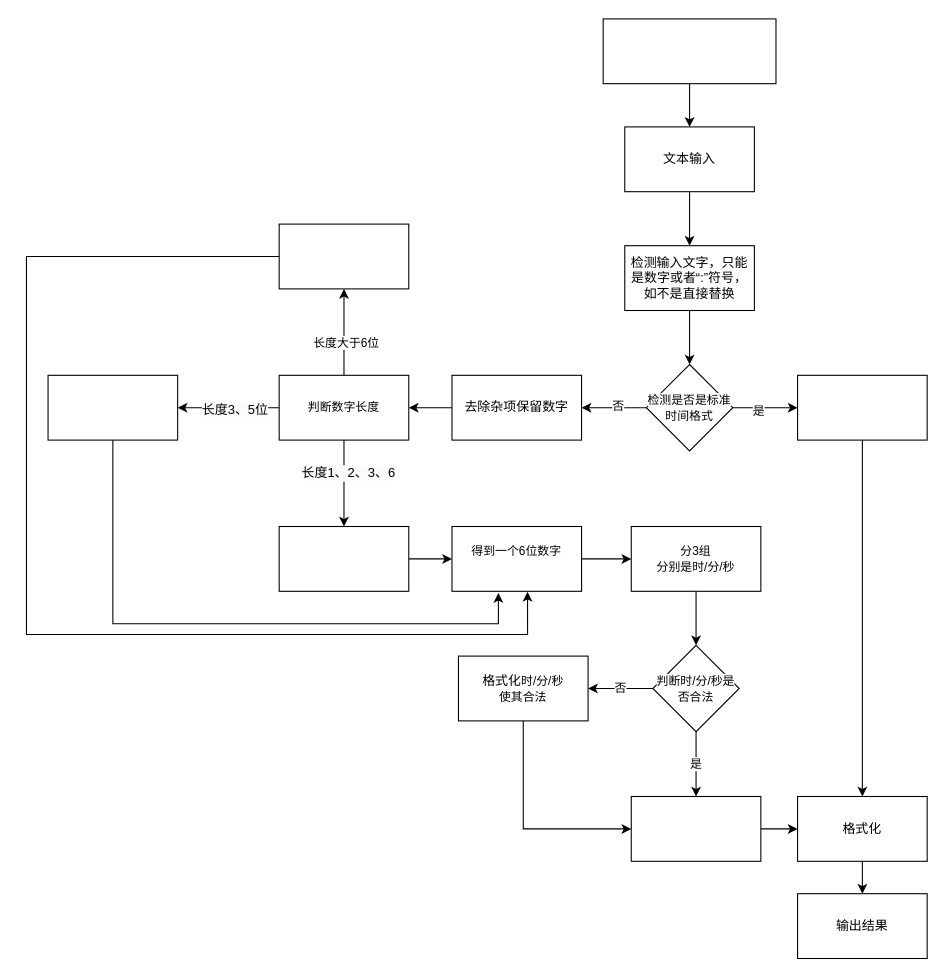
The diagram is 946 pixels wide and 977 high, and some of its shapes have lost their labels. The shapes that lost their labels are listed below. From the top down, each one's box as (x1, y1, x2, y2) in pixels, then its label:
(602, 18, 776, 84): 时间快捷生成器
(278, 223, 409, 289): 截取前6位
(47, 374, 178, 440): 前补一个0 后补0到6位
(796, 374, 927, 440): 补位
(278, 525, 409, 591): 后补0到6位
(630, 795, 761, 861): 转化时间格式
